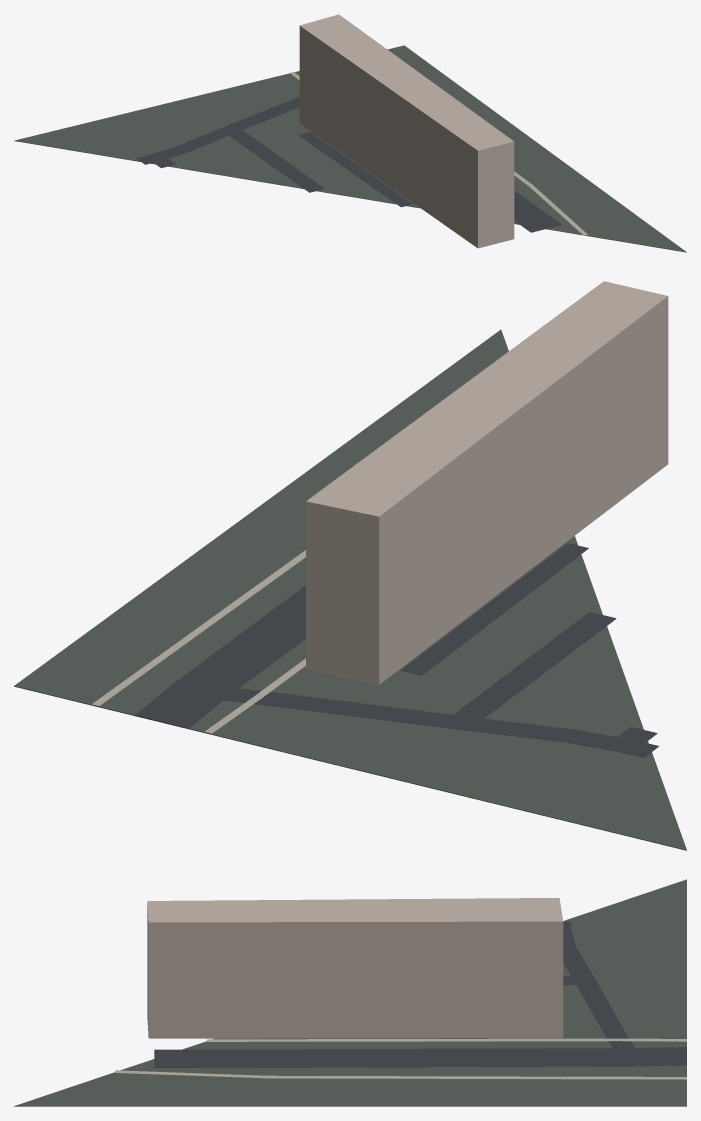
File: tile_002_001.glb
3 views of the same model, one above another, from view 1: azimuth 30°, elevation 25°; view 2: azimuth 150°, elevation 25°; view 3: azimuth 270°, elevation 25° (orthographic). The views are drawn at different scales.
Visible parts, largest first — view 1: tile_002_001_buildings_residential, tile_002_001_ground, tile_002_001_roads, tile_002_001_paths; view 2: tile_002_001_ground, tile_002_001_buildings_residential, tile_002_001_roads, tile_002_001_paths; view 3: tile_002_001_buildings_residential, tile_002_001_ground, tile_002_001_roads, tile_002_001_paths.
Boxes of the visible parts, x1,y1,x2,y2 form: tile_002_001_buildings_residential: (299, 14, 514, 248); tile_002_001_ground: (14, 45, 686, 252); tile_002_001_roads: (136, 96, 561, 232); tile_002_001_paths: (290, 72, 587, 235); tile_002_001_ground: (14, 329, 686, 850); tile_002_001_buildings_residential: (306, 281, 668, 684); tile_002_001_roads: (135, 543, 658, 757); tile_002_001_paths: (92, 550, 305, 733); tile_002_001_buildings_residential: (147, 898, 563, 1038); tile_002_001_ground: (14, 879, 686, 1106); tile_002_001_roads: (154, 921, 686, 1067); tile_002_001_paths: (115, 1038, 686, 1079).
Bounding box in the file's own units: 160 × 38.36 × 200.
